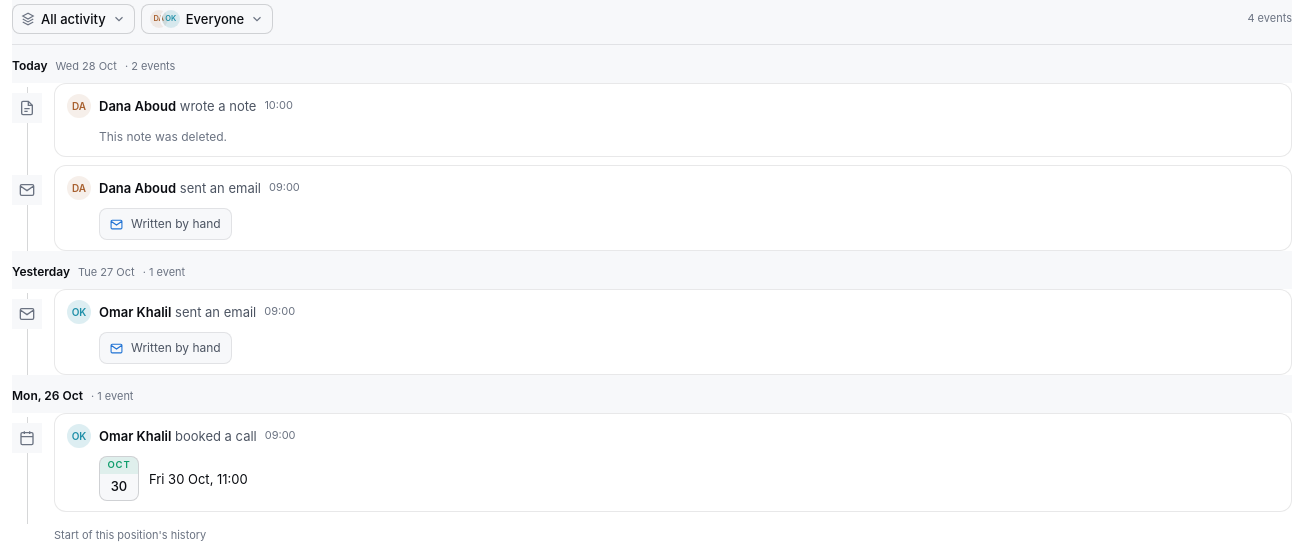
ActivityTimeline › filters › narrows by person, its counts following the kind chosen, and an option with nothing to show disabled
This screenshot has width=1304, height=559.
Step 1. Click the button with aria-label "Filter by kind" → (73, 19), box [12,4,135,34]
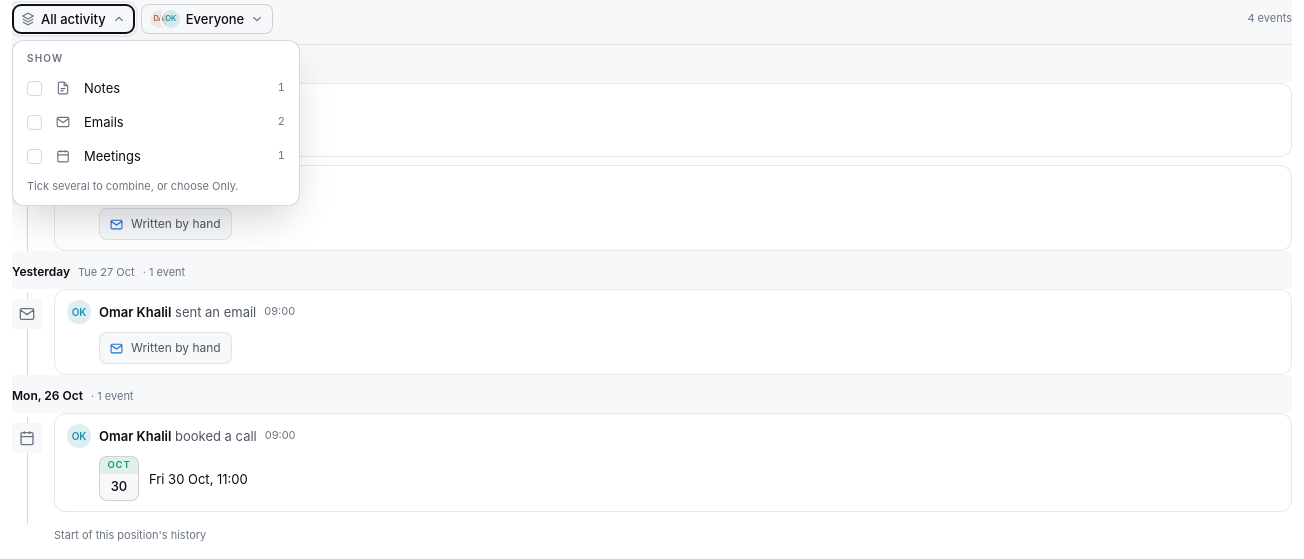
Step 2. Click the menu item "Meetings 1" → (112, 156), box [19,139,293,173]
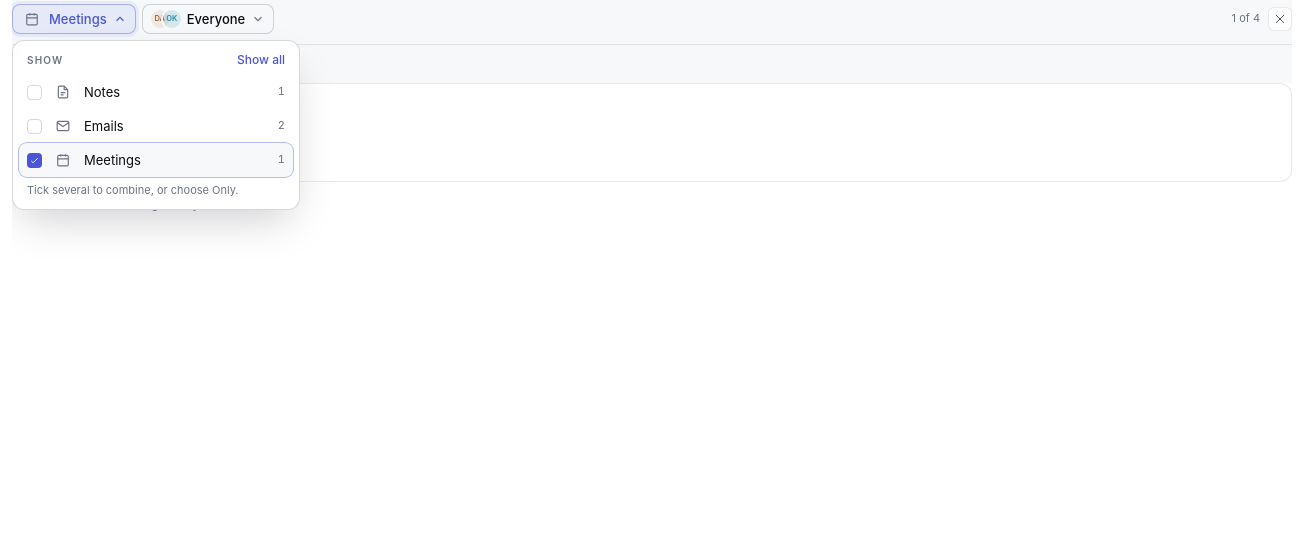
Step 3. Press Escape
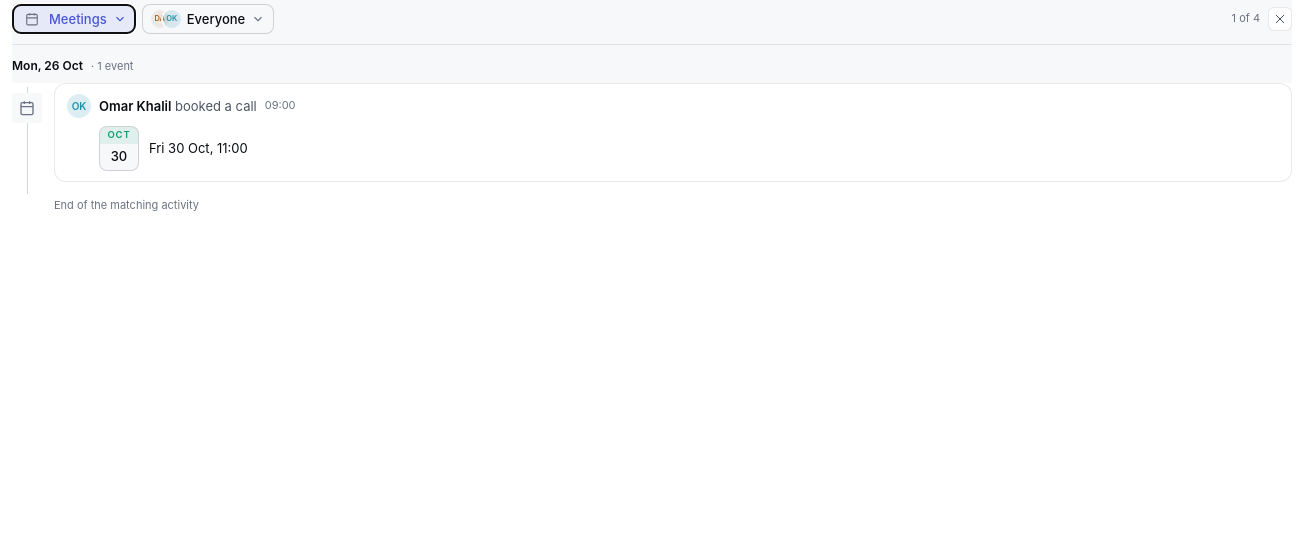
Step 4. Click the button with aria-label "Filter by person" → (208, 19), box [142,4,274,34]
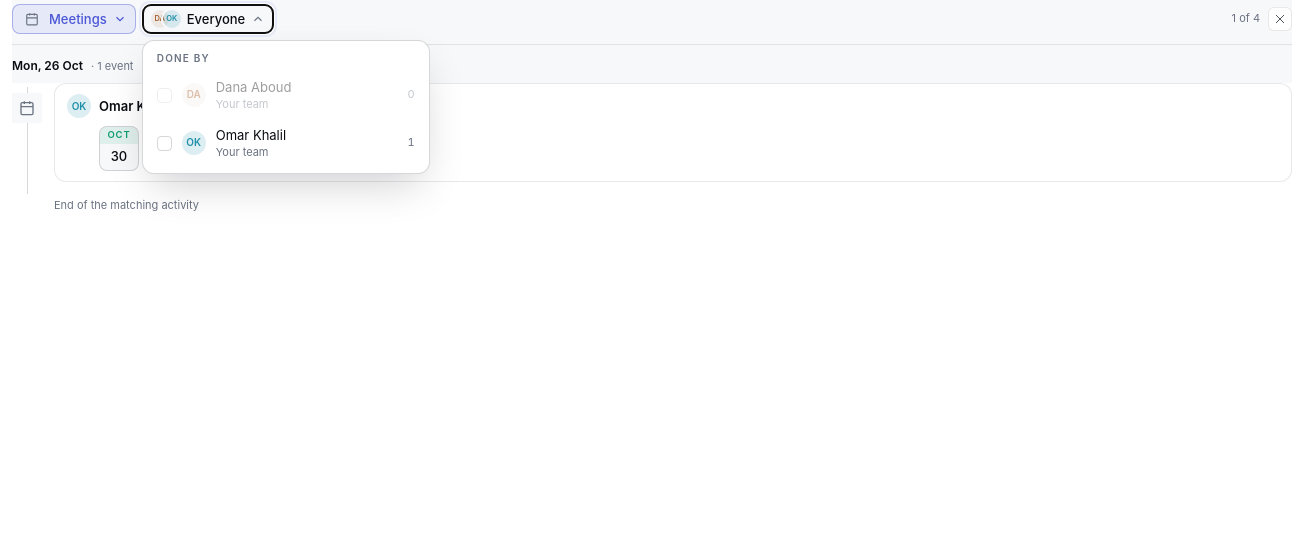
Now the menu item "DA Dana Aboud Your team 0" is disabled, box [149,71,423,119]
Now the menu item "OK Omar Khalil Your team 1" is shown
Step 5. Click the menu item "OK Omar Khalil Your team 1" → (286, 143), box [149,119,423,167]
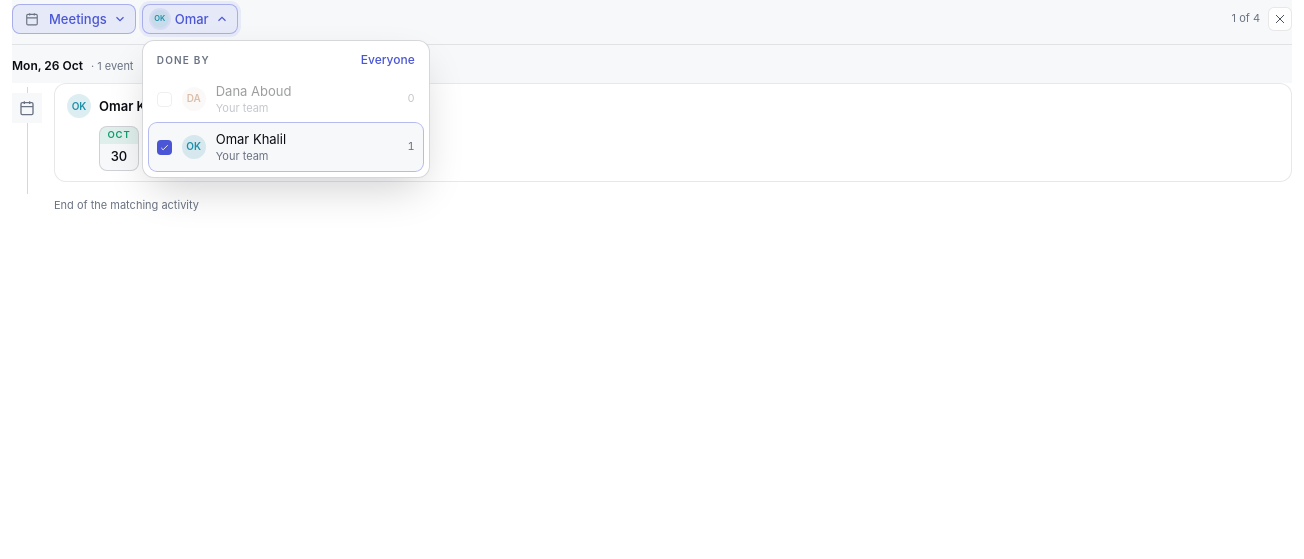
Now the text "1 of 4" is shown, box [1232,7,1292,31]
Now the button with aria-label "Filter by person" shows "Omar", box [142,4,238,34]
